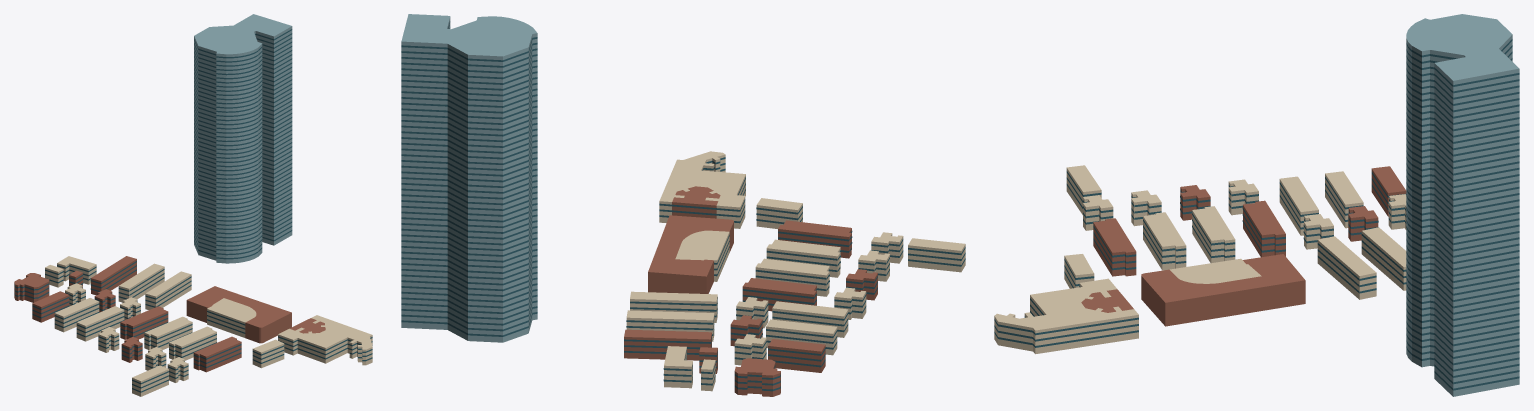
Rendered from city_7_-3.glb.
The picture shows the model from 3 angles, left to right: view 1: azimuth 30°, elevation 25°; view 2: azimuth 150°, elevation 25°; view 3: azimuth 270°, elevation 25°; orthographic projection. The views are drawn at different scales.
Parts seen in each view (by area): view 1: city_7_-3; view 2: city_7_-3; view 3: city_7_-3.
Boxes of the visible parts, x1=… form: city_7_-3: x1=14, y1=14, x2=372, y2=396; city_7_-3: x1=401, y1=14, x2=965, y2=396; city_7_-3: x1=994, y1=14, x2=1519, y2=396.
Bounding box in the file's own units: 282 × 200 × 301.
